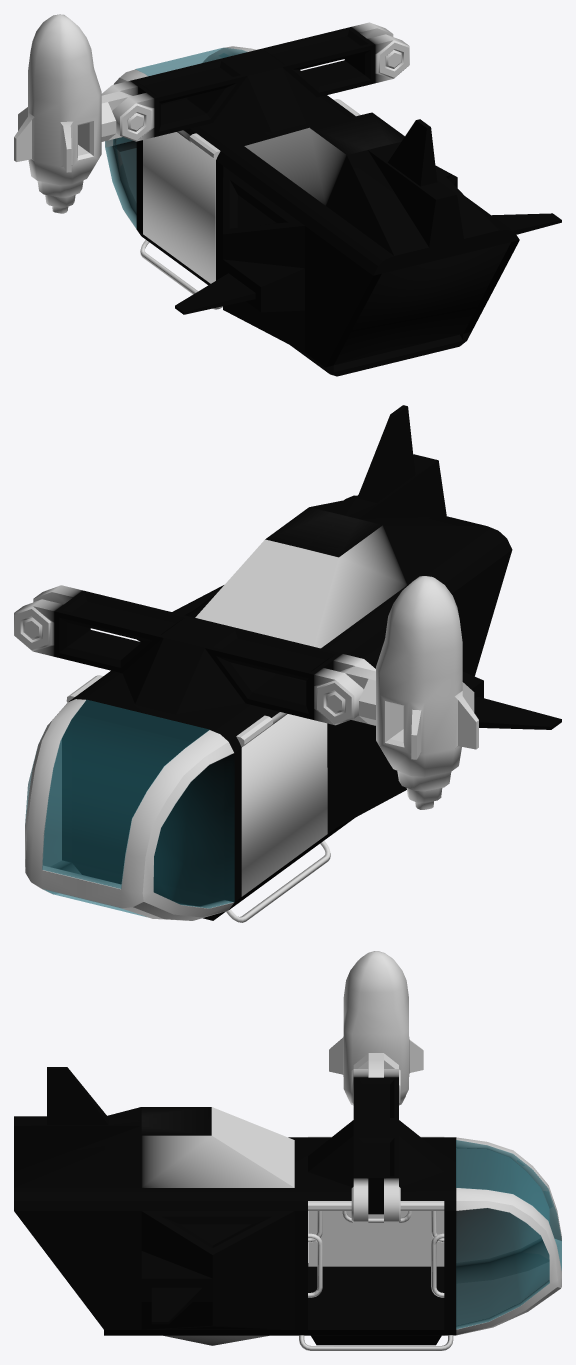
The model's file is Ship.FBX.
3 renders of one model, top to bottom at view 1: azimuth 30°, elevation 25°; view 2: azimuth 150°, elevation 25°; view 3: azimuth 270°, elevation 25°, orthographic. The views are drawn at different scales.
Parts seen in each view (by area): view 1: ShipLow, LObject038, LObject036, LObject037, LObject040, LObject039; view 2: ShipLow, LObject040, LObject038, LObject037, LObject039; view 3: ShipLow, LObject040, LObject038, LObject037, LObject039.
Boxes of the visible parts, left/top/right/bottom form: ShipLow: left=101, top=22, right=561, bottom=376; LObject038: left=14, top=14, right=101, bottom=213; LObject036: left=334, top=242, right=510, bottom=365; LObject037: left=143, top=132, right=215, bottom=283; LObject040: left=105, top=47, right=246, bottom=228; LObject039: left=101, top=91, right=132, bottom=141; ShipLow: left=14, top=405, right=561, bottom=922; LObject040: left=25, top=700, right=234, bottom=916; LObject038: left=376, top=576, right=478, bottom=809; LObject037: left=241, top=714, right=327, bottom=896; LObject039: left=340, top=666, right=375, bottom=725; ShipLow: left=14, top=1067, right=561, bottom=1350; LObject040: left=456, top=1140, right=561, bottom=1329; LObject038: left=329, top=951, right=423, bottom=1105; LObject037: left=308, top=1211, right=444, bottom=1266; LObject039: left=353, top=1053, right=398, bottom=1077.
Bounding box in the file's own units: 200 × 141 × 238.
